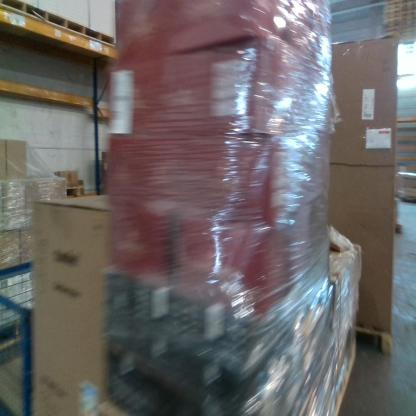pallet: (356, 324, 391, 360), (384, 5, 399, 13), (384, 13, 399, 21), (399, 1, 416, 8), (383, 21, 399, 28), (384, 0, 399, 7), (399, 10, 416, 16), (399, 7, 416, 12)
stillage: (0, 259, 32, 416)
